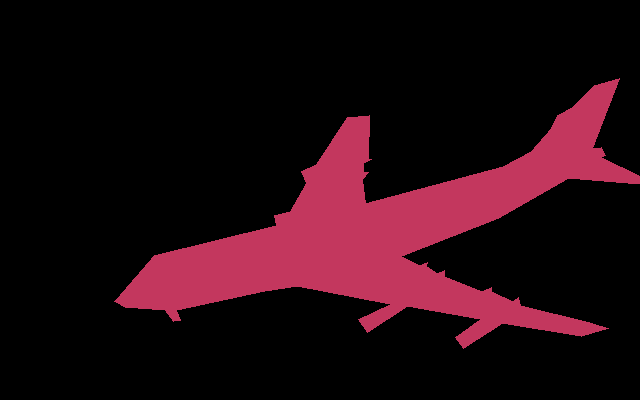Airplane: (114, 78, 640, 349)
